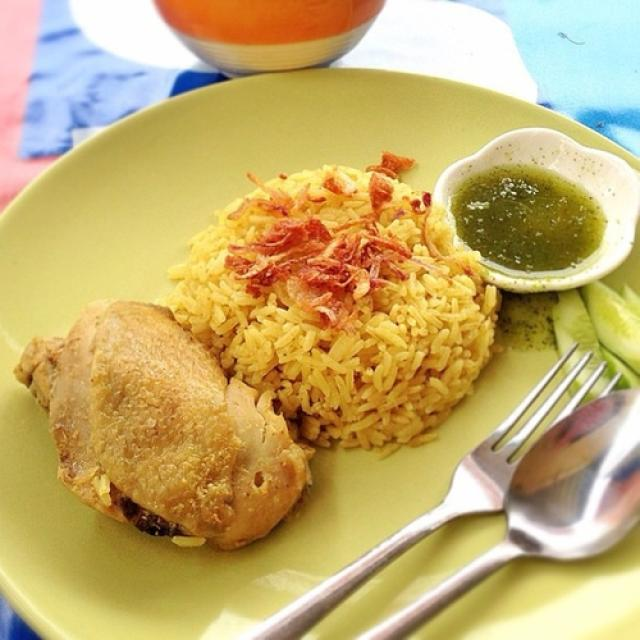米饭主食: (4, 42, 630, 626)
